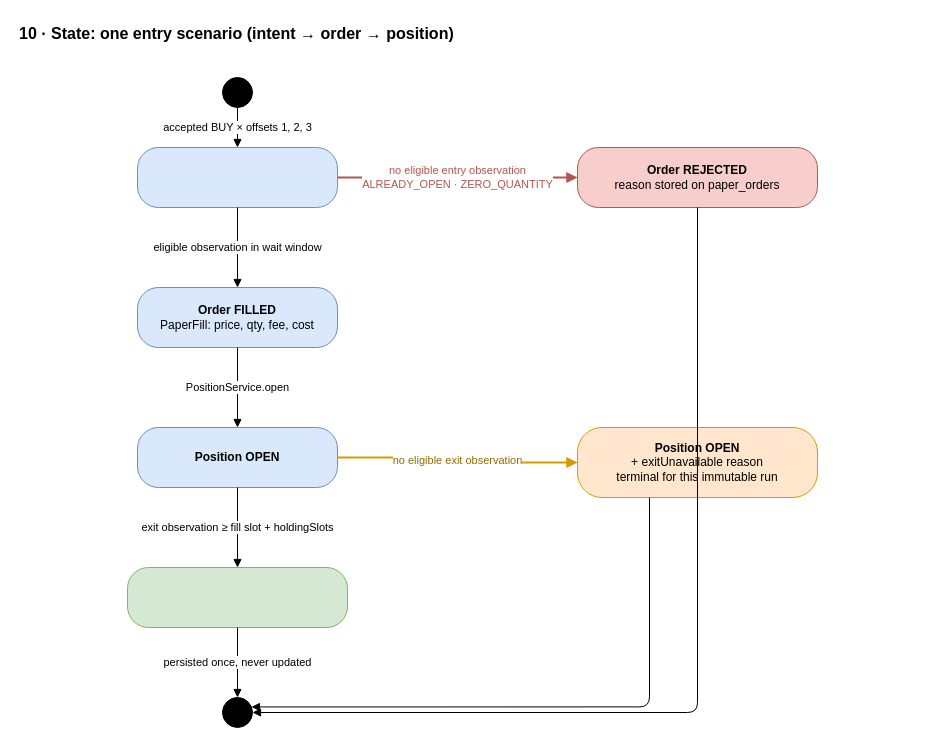
This 934x745 diagram has some shape labels left out. The shapes that lost their labels are listed below. From the top down, each one's centre as x and y in pixels, then its label:
the point at 237,177: TradeIntent target = source slot + offset
the point at 237,597: Position CLOSED closeReason MAX_HOLDING_SLOTS
